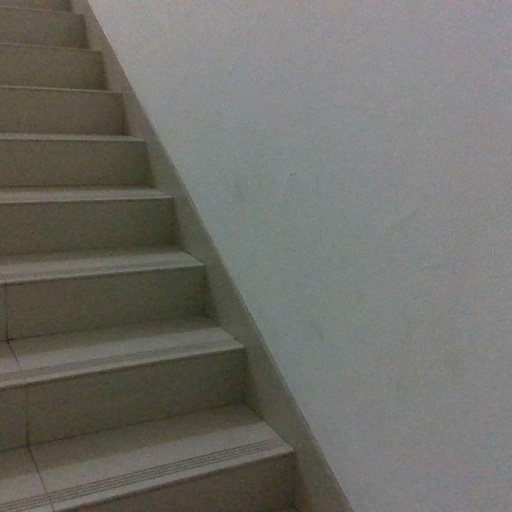Stairs: (0, 0, 350, 512)
